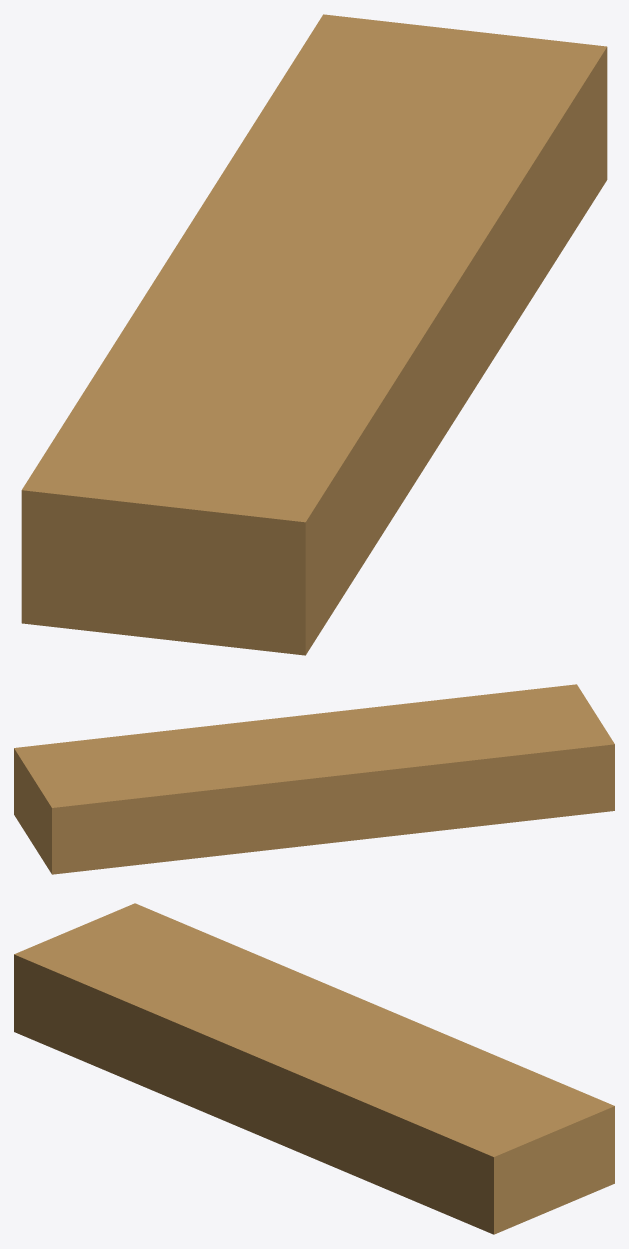
The picture shows the model from 3 angles, top to bottom: view 1: azimuth 30°, elevation 25°; view 2: azimuth 150°, elevation 25°; view 3: azimuth 270°, elevation 25°; orthographic projection. The views are drawn at different scales.
Parts seen in each view (by area): view 1: RUN-019-S00-NOG-00; view 2: RUN-019-S00-NOG-00; view 3: RUN-019-S00-NOG-00.
Boxes of the visible parts, bbox=[...] form: RUN-019-S00-NOG-00: bbox=[21, 14, 607, 655]; RUN-019-S00-NOG-00: bbox=[14, 684, 614, 874]; RUN-019-S00-NOG-00: bbox=[14, 903, 614, 1234].
Bounding box in the file's own units: 0.3159 × 0.045 × 0.3159.
